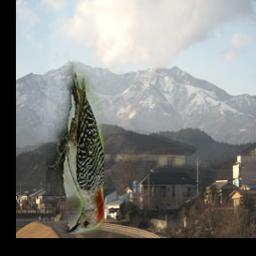Woodpecker: (46, 61, 104, 234)
